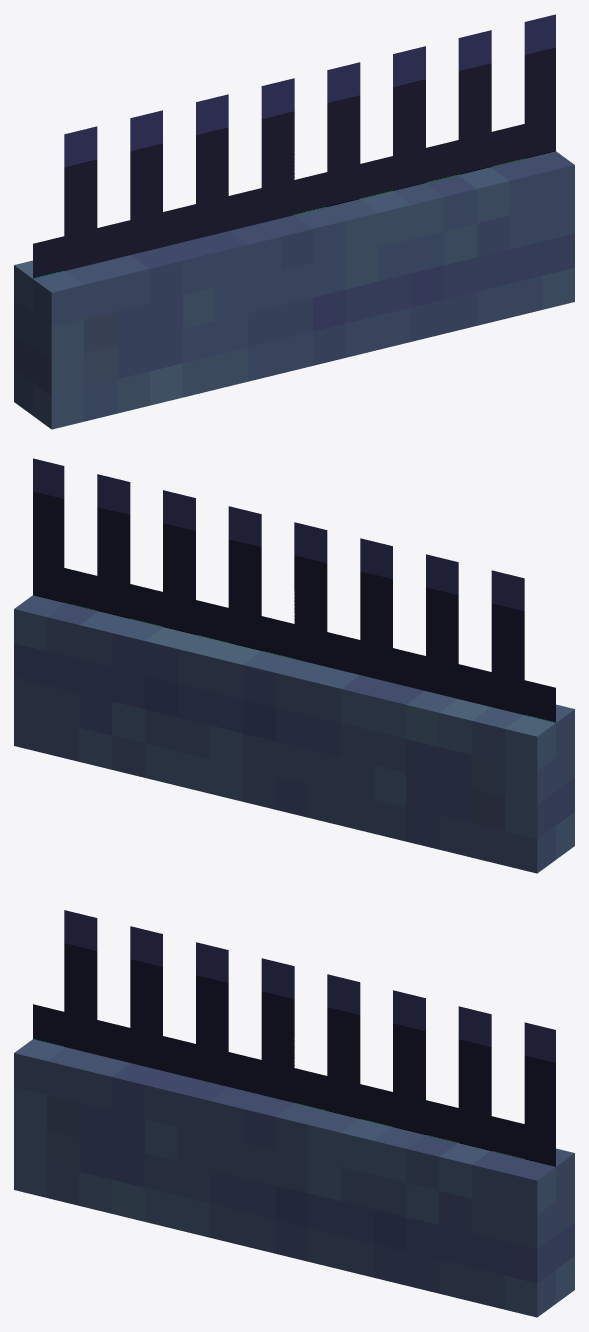
The model's file is fence.fbx.
3 renders of one model, top to bottom at view 1: azimuth 30°, elevation 25°; view 2: azimuth 150°, elevation 25°; view 3: azimuth 330°, elevation 25°, orthographic.
Visible parts, largest first — view 1: Cube; view 2: Cube; view 3: Cube.
Boxes of the visible parts, x1=… form: Cube: x1=14, y1=14, x2=574, y2=429; Cube: x1=14, y1=458, x2=574, y2=873; Cube: x1=14, y1=910, x2=574, y2=1317.
Bounding box in the file's own units: 50 × 6.25 × 25.
1 material, 1 textured.
